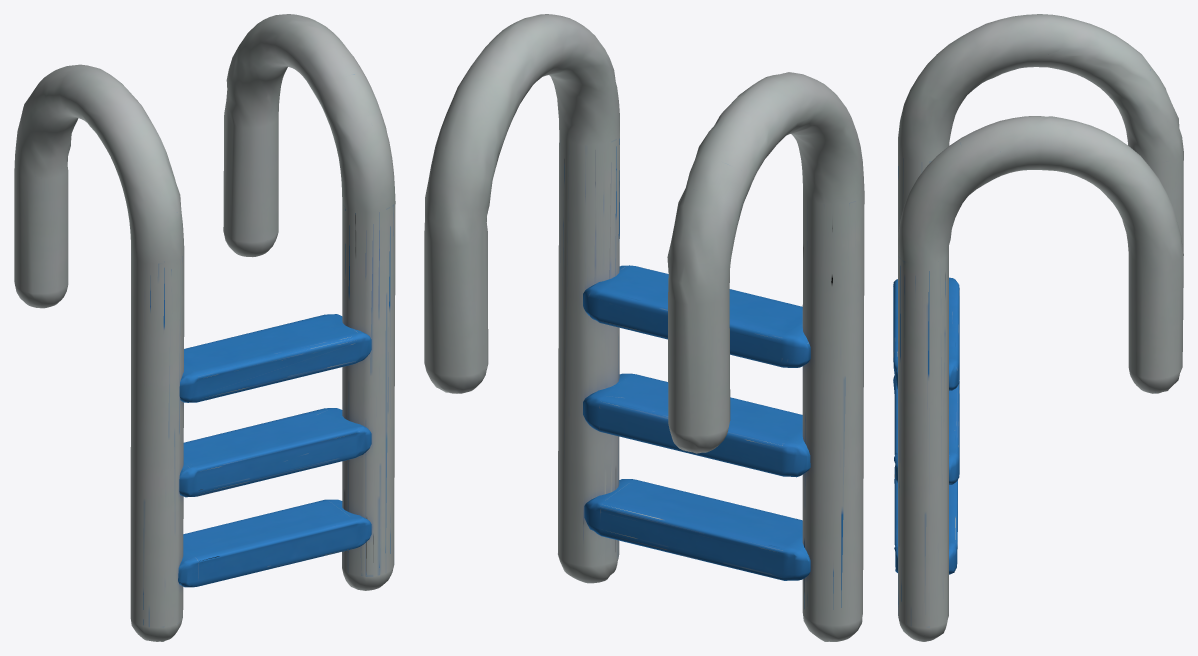
The model's file is pool_ladder.glb.
3 views of the same model, side by side, from view 1: azimuth 30°, elevation 25°; view 2: azimuth 150°, elevation 25°; view 3: azimuth 270°, elevation 25° (orthographic). The views are drawn at different scales.
Visible parts, largest first — view 1: geometry_0; view 2: geometry_0; view 3: geometry_0.
Part boxes in pixels (x1,y1,x2,y2): geometry_0: (14, 14, 395, 641); geometry_0: (424, 14, 864, 641); geometry_0: (893, 14, 1183, 641).
Size of the model in its own units: 0.4917 by 0.9512 by 0.481.
1 material, 1 textured.
